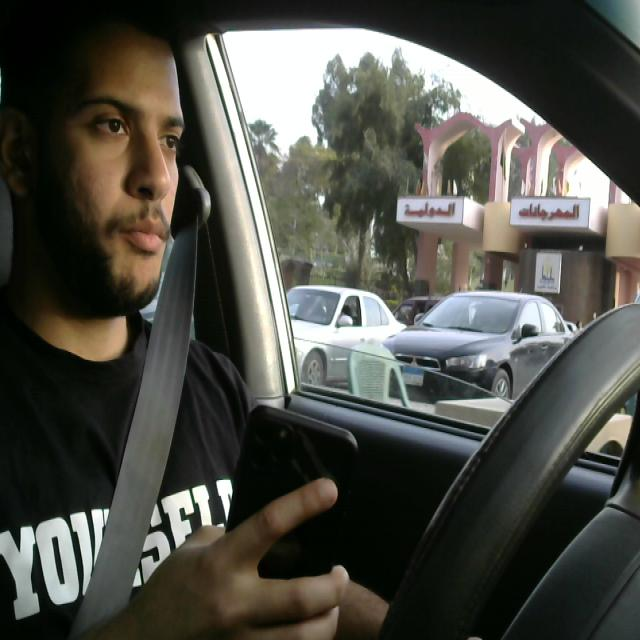mobile use: (214, 402, 356, 640)
